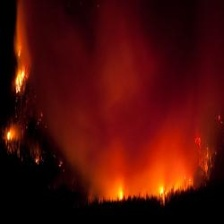fire: (90, 171, 198, 201), (7, 34, 34, 95), (3, 128, 16, 148)
